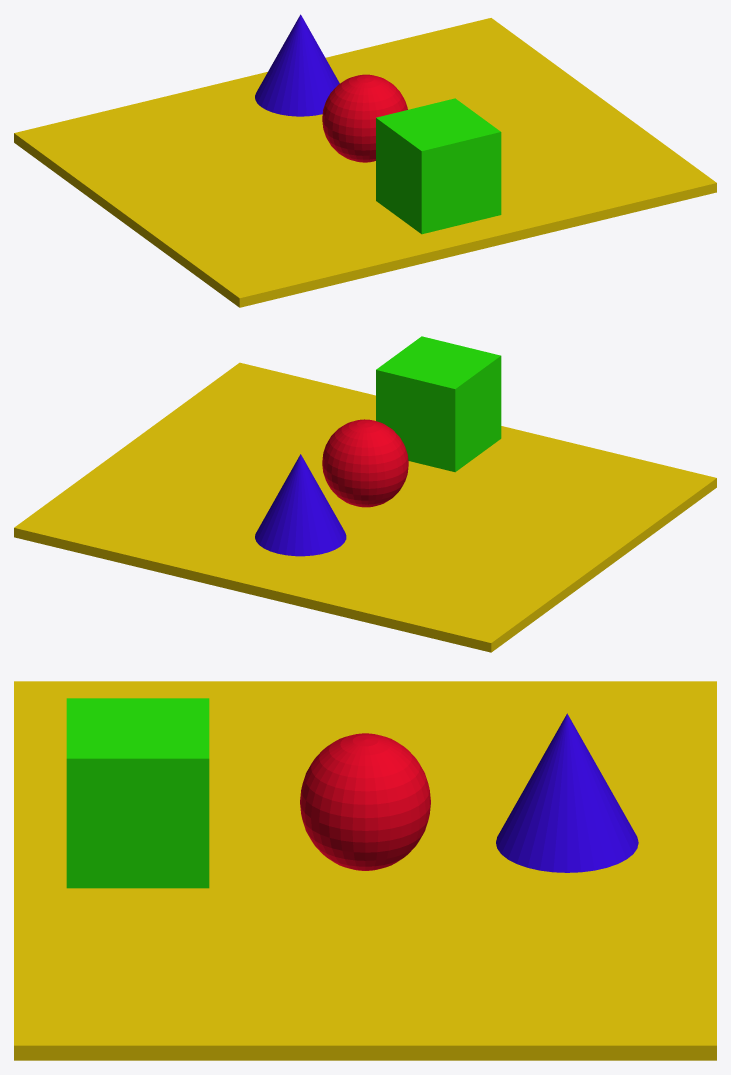
3 views of the same model, one above another, from view 1: azimuth 30°, elevation 25°; view 2: azimuth 150°, elevation 25°; view 3: azimuth 270°, elevation 25° (orthographic). The views are drawn at different scales.
Parts seen in each view (by area): view 1: Cube_Cube.001, Cube.001_Cube.002, Cone, Sphere; view 2: Cube_Cube.001, Cube.001_Cube.002, Sphere, Cone; view 3: Cube_Cube.001, Cube.001_Cube.002, Sphere, Cone.
Part boxes in pixels (<box>): Cube_Cube.001: <box>14,18,716,307</box>; Cube.001_Cube.002: <box>376,98,501,234</box>; Cone: <box>255,14,339,116</box>; Sphere: <box>322,74,407,162</box>; Cube_Cube.001: <box>14,362,716,652</box>; Cube.001_Cube.002: <box>376,336,501,472</box>; Sphere: <box>322,419,408,507</box>; Cone: <box>255,454,346,556</box>; Cube_Cube.001: <box>14,681,716,1060</box>; Cube.001_Cube.002: <box>66,698,209,888</box>; Sphere: <box>300,733,430,870</box>; Cone: <box>496,713,638,872</box>.
Bounding box in the file's own units: 2404 × 513 × 1969.
